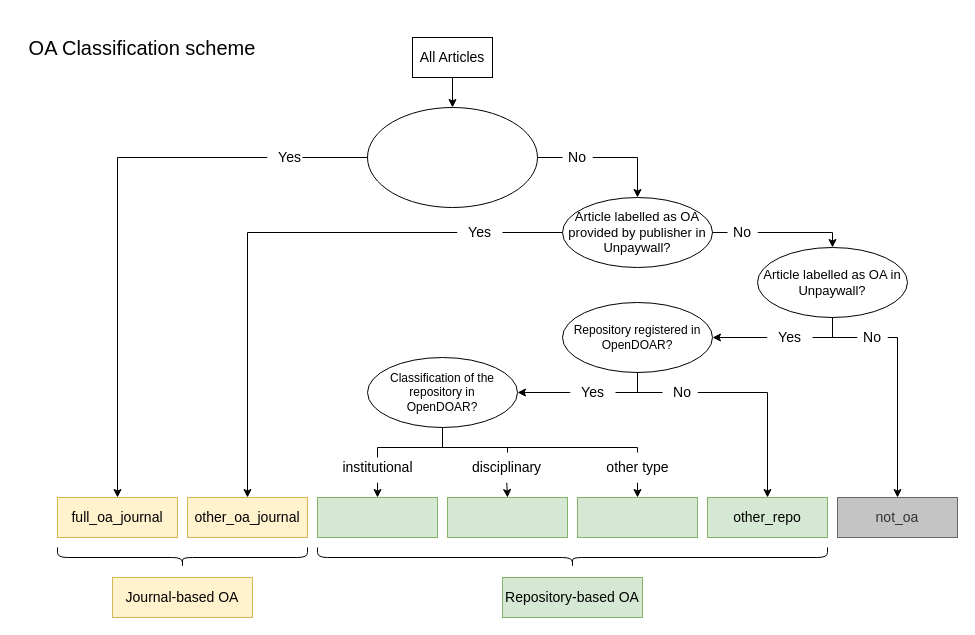
Image size: 975x635. Some labels were removed from this diagram. The box of each missing label's shape, as (x1, y1, x2, y2) in pixels:
Journal listed in ISSN-Gold-OA-3.0 list or labelled as OA-journal in Unpaywall?: (366, 106, 538, 208)
opendoar_inst: (316, 496, 438, 538)
opendoar_other: (576, 496, 698, 538)
opendoar_subject: (446, 496, 568, 538)
